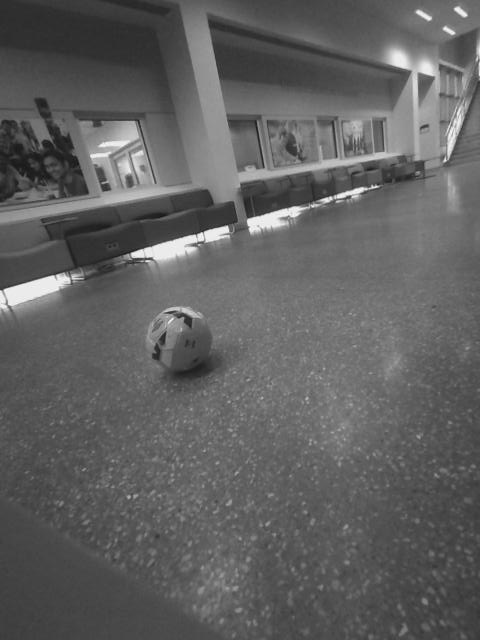ball: (140, 296, 222, 380)
